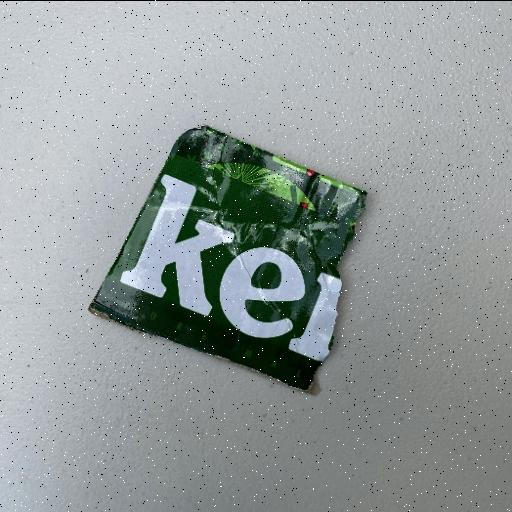Cardboard: (87, 123, 369, 393)
